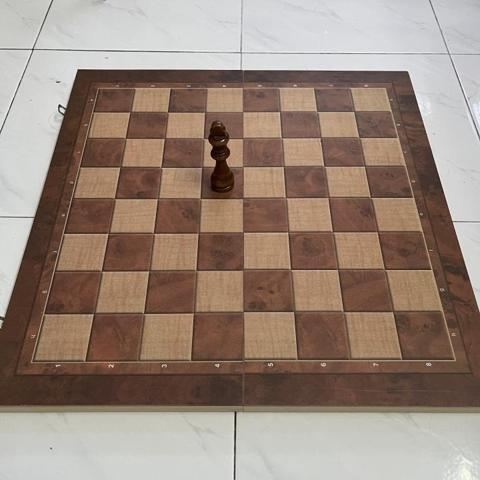xcorner: (344, 102, 362, 120), (307, 102, 325, 120), (270, 102, 288, 120), (195, 102, 213, 120), (158, 102, 176, 120), (311, 128, 329, 146), (272, 128, 290, 146), (233, 128, 251, 146), (194, 128, 212, 146), (155, 128, 173, 146), (116, 128, 134, 146), (234, 188, 252, 206), (191, 188, 209, 206), (369, 222, 387, 240), (324, 222, 342, 240), (279, 222, 297, 240), (377, 260, 395, 278), (236, 303, 254, 321), (186, 303, 204, 321), (136, 303, 154, 321), (233, 102, 250, 120), (121, 102, 138, 120), (350, 128, 367, 146), (315, 157, 333, 174), (274, 157, 292, 174), (152, 157, 170, 174), (111, 157, 129, 174), (362, 188, 380, 205), (319, 188, 337, 205), (277, 188, 294, 206), (149, 188, 166, 206), (106, 188, 123, 206), (235, 222, 252, 240), (190, 222, 207, 240), (145, 222, 162, 240), (330, 260, 347, 278), (282, 261, 300, 278), (235, 261, 253, 278), (188, 261, 206, 278), (93, 261, 111, 278), (336, 303, 353, 321), (286, 303, 303, 321), (86, 303, 103, 321), (356, 157, 373, 174), (234, 157, 251, 174), (193, 157, 210, 174), (100, 223, 117, 240), (141, 261, 158, 278), (386, 303, 403, 320)
